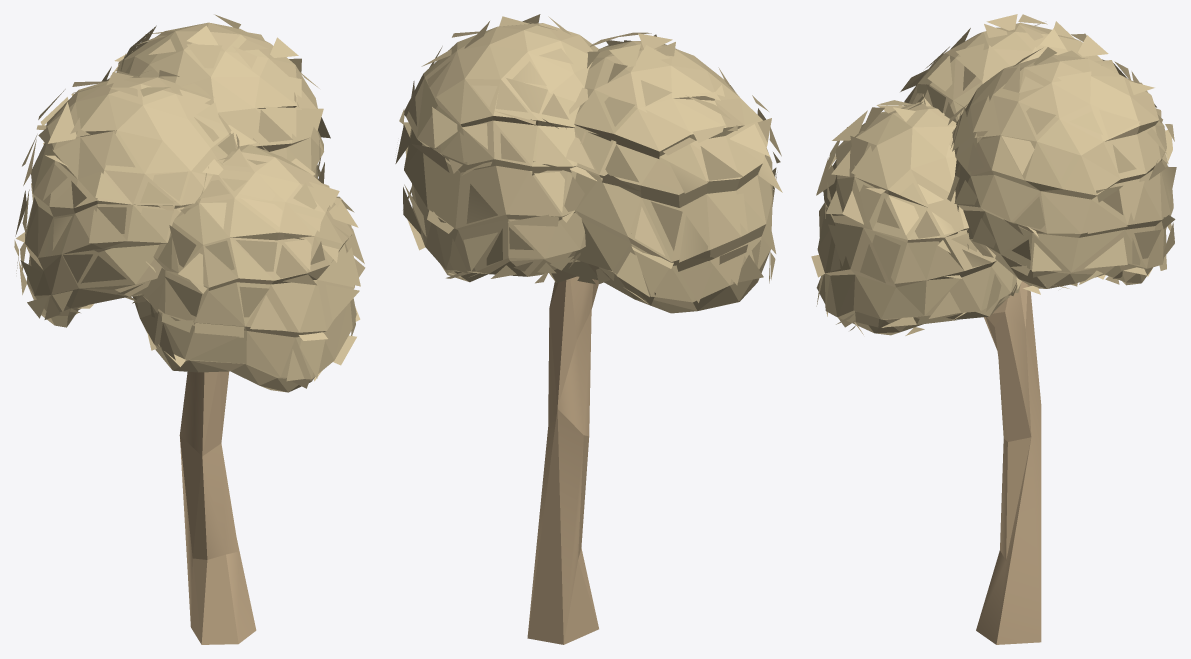
File: DriedbigtoothC.fbx
The picture shows the model from 3 angles, left to right: view 1: azimuth 30°, elevation 25°; view 2: azimuth 150°, elevation 25°; view 3: azimuth 270°, elevation 25°; orthographic projection. The views are drawn at different scales.
Parts seen in each view (by area): view 1: Icosphere.007, trunk.005; view 2: Icosphere.007, trunk.005; view 3: Icosphere.007, trunk.005.
Boxes of the visible parts, x1,y1,x2,y2 form: Icosphere.007: (14, 14, 365, 392); trunk.005: (179, 371, 256, 644); Icosphere.007: (395, 14, 782, 313); trunk.005: (527, 276, 598, 644); Icosphere.007: (811, 14, 1176, 335); trunk.005: (976, 281, 1041, 644).
Bounding box in the file's own units: 445 × 807 × 457.
